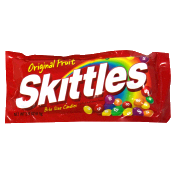grozi_38: (5, 50, 170, 123)
